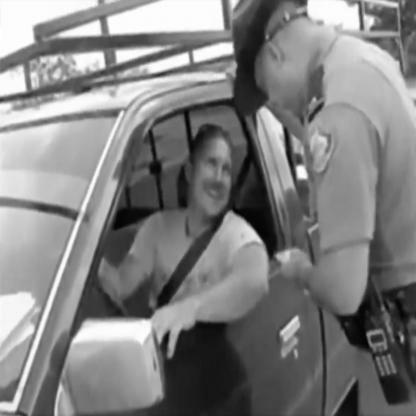seatbelt: (148, 113, 241, 309)
